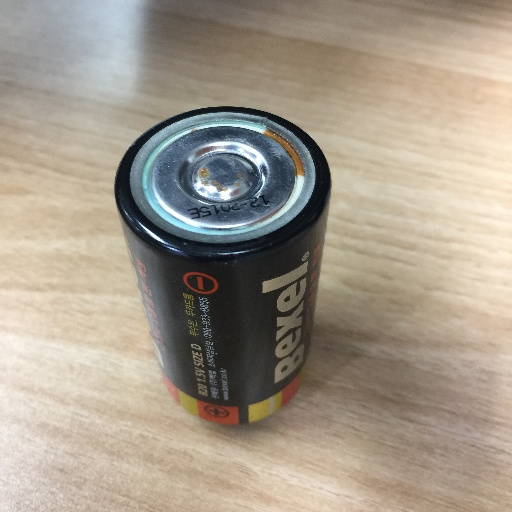Battery_0: (105, 93, 345, 436)
